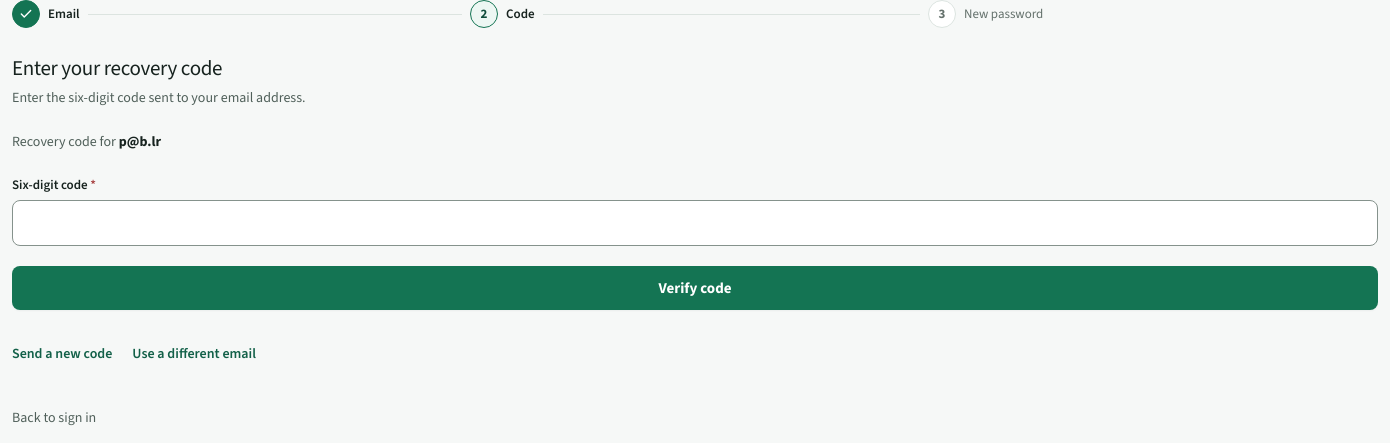
ResetPasswordPanel › verifies the recovery code and resets the password through MedNet
Expected: the heading "Enter your recovery code" is shown, x1=12 y1=54 x2=222 y2=82
Type "12a3456" into the field labelled "Six-digit code *" at (695, 223), box x1=12 y1=200 x2=1378 y2=246
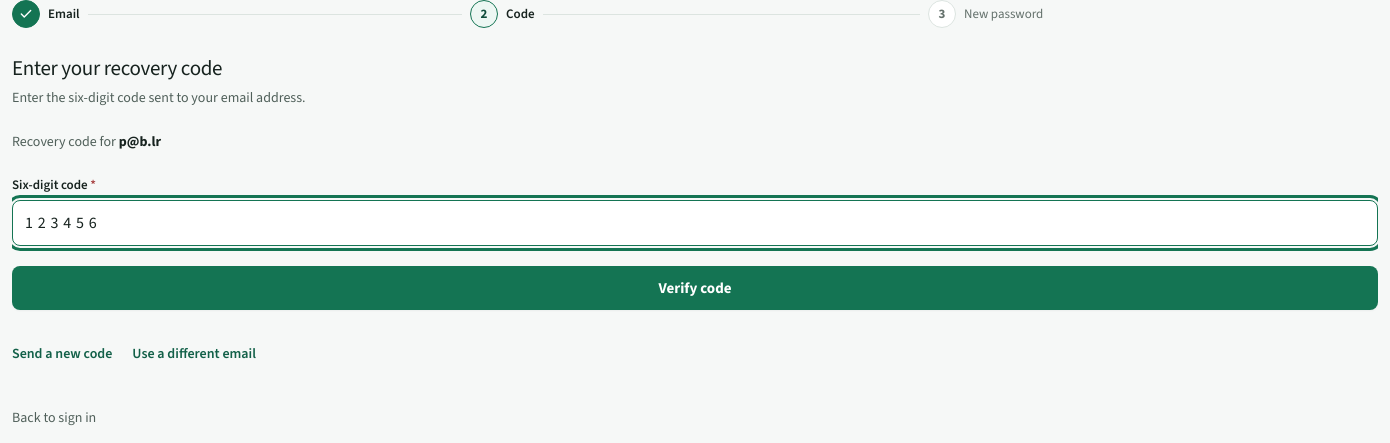
Now the field labelled "Six-digit code *" holds "123456", box x1=12 y1=200 x2=1378 y2=246
Click the button "Verify code" at (695, 288), box x1=12 y1=266 x2=1378 y2=310
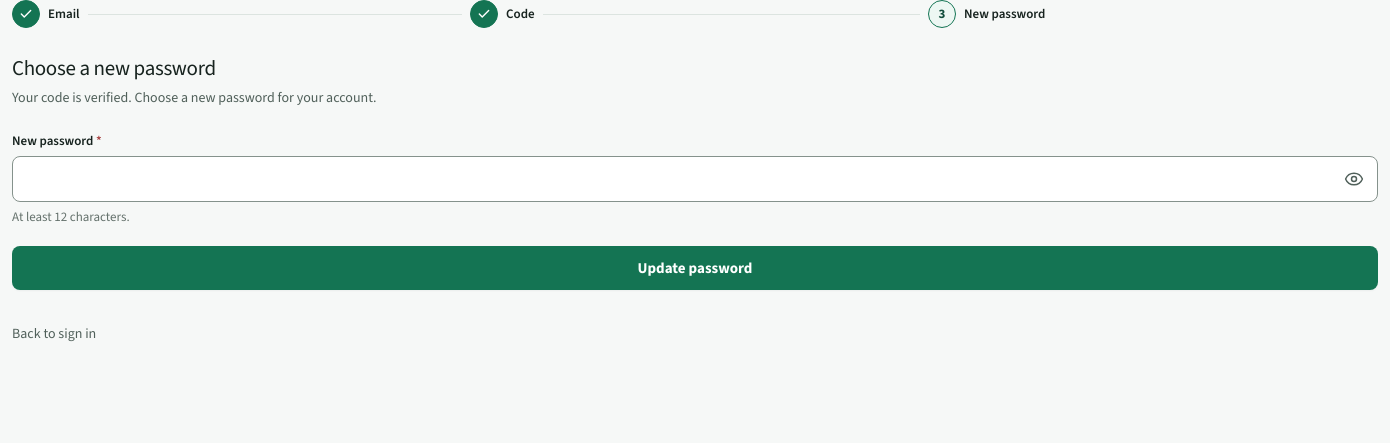
Now the heading "Choose a new password" is shown, box x1=12 y1=54 x2=216 y2=82
Type "a-brand-new-password" into the password field labelled "New password *" at (695, 179), box x1=12 y1=156 x2=1378 y2=202
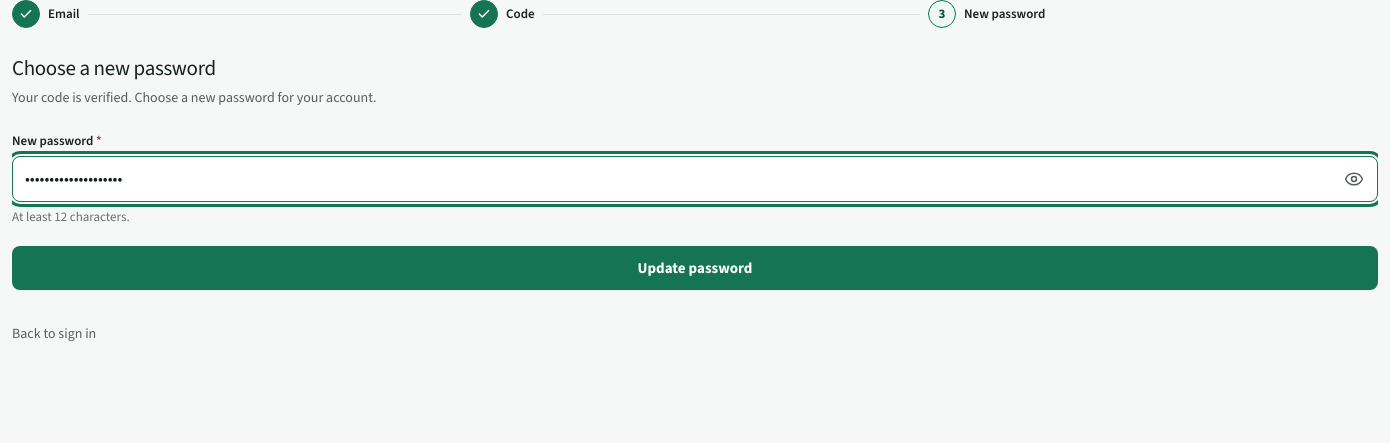
Click the button "Update password" at (695, 268), box x1=12 y1=246 x2=1378 y2=290
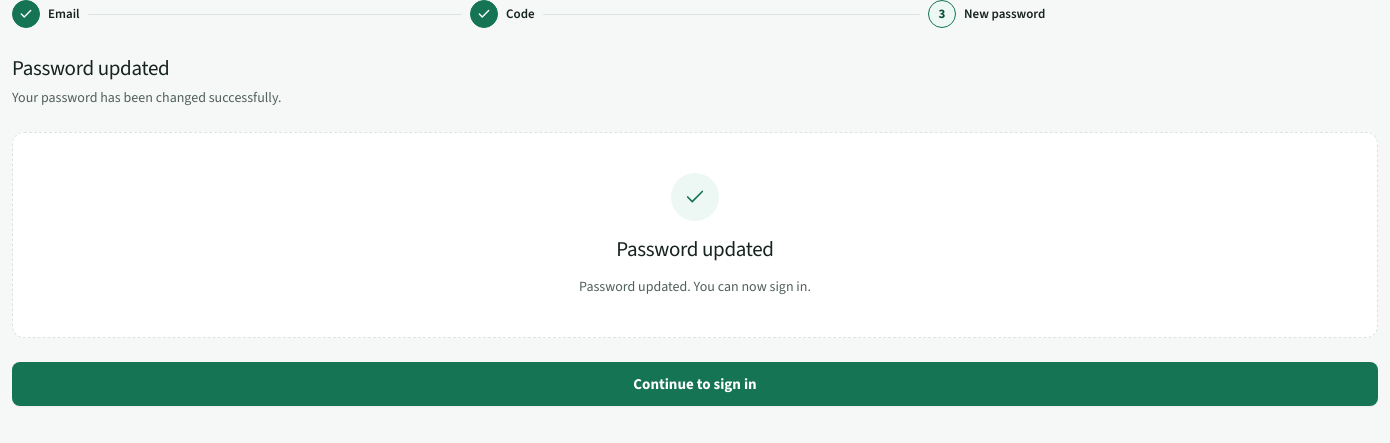
Now the text "Password updated. You can now sign in." is shown, box x1=579 y1=277 x2=811 y2=297
